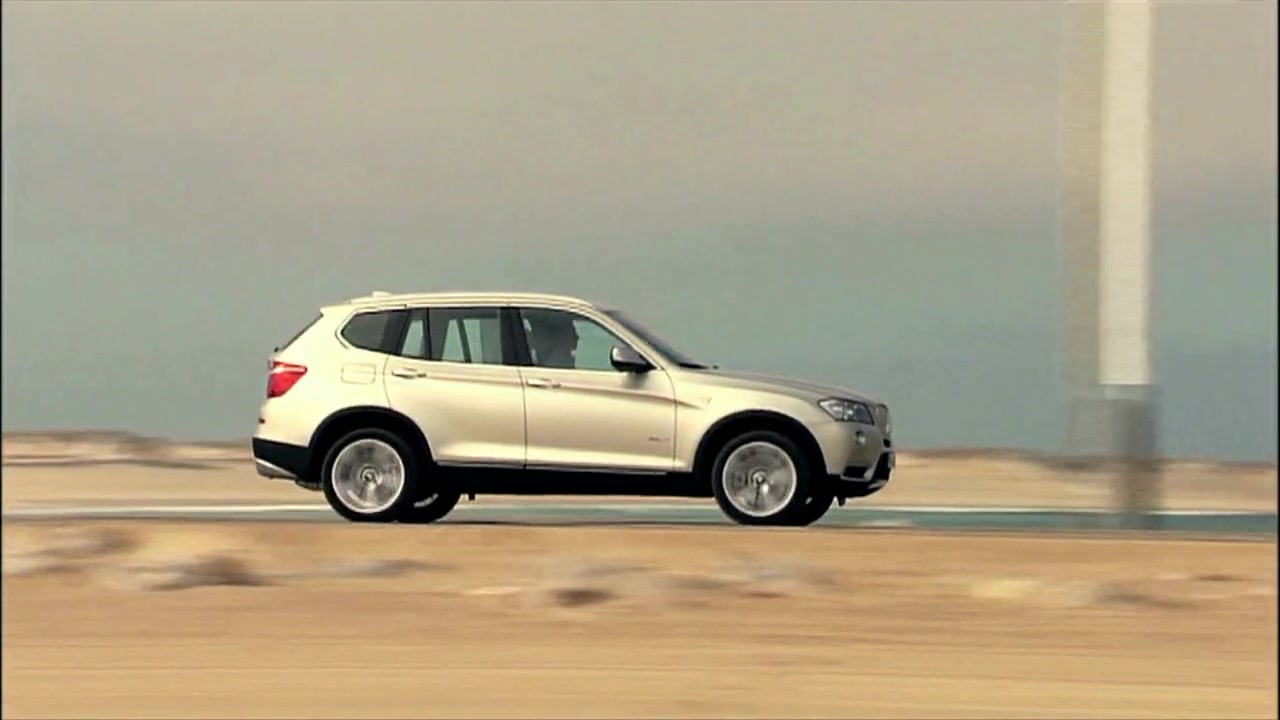car: (249, 290, 902, 526)
